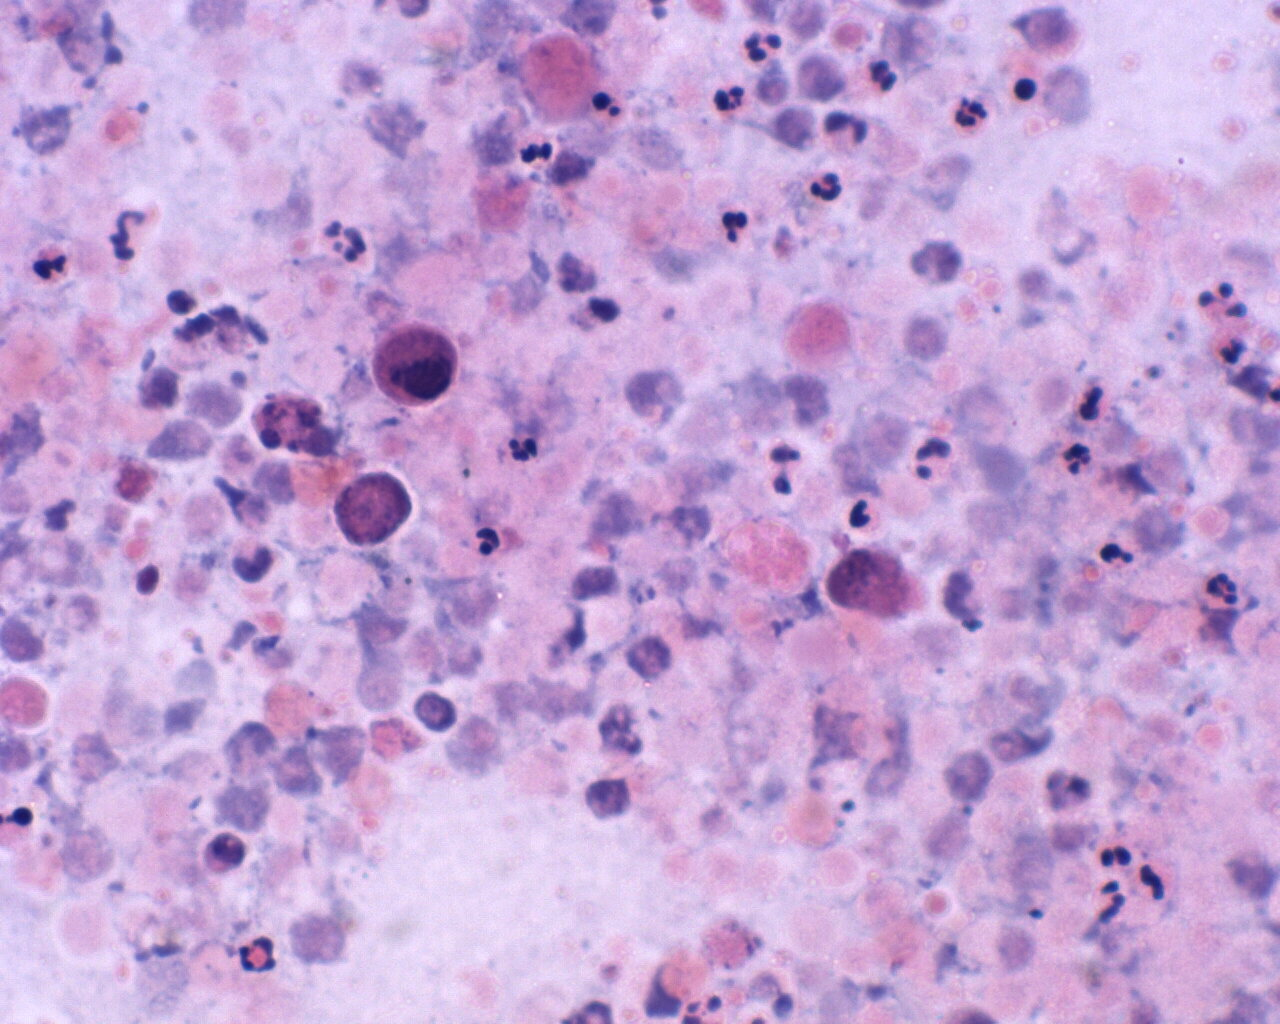ab: (366, 319, 459, 410)
neutro: (952, 85, 997, 132), (502, 423, 543, 472), (467, 517, 512, 561), (705, 77, 751, 118), (715, 203, 753, 245), (808, 169, 846, 205)
